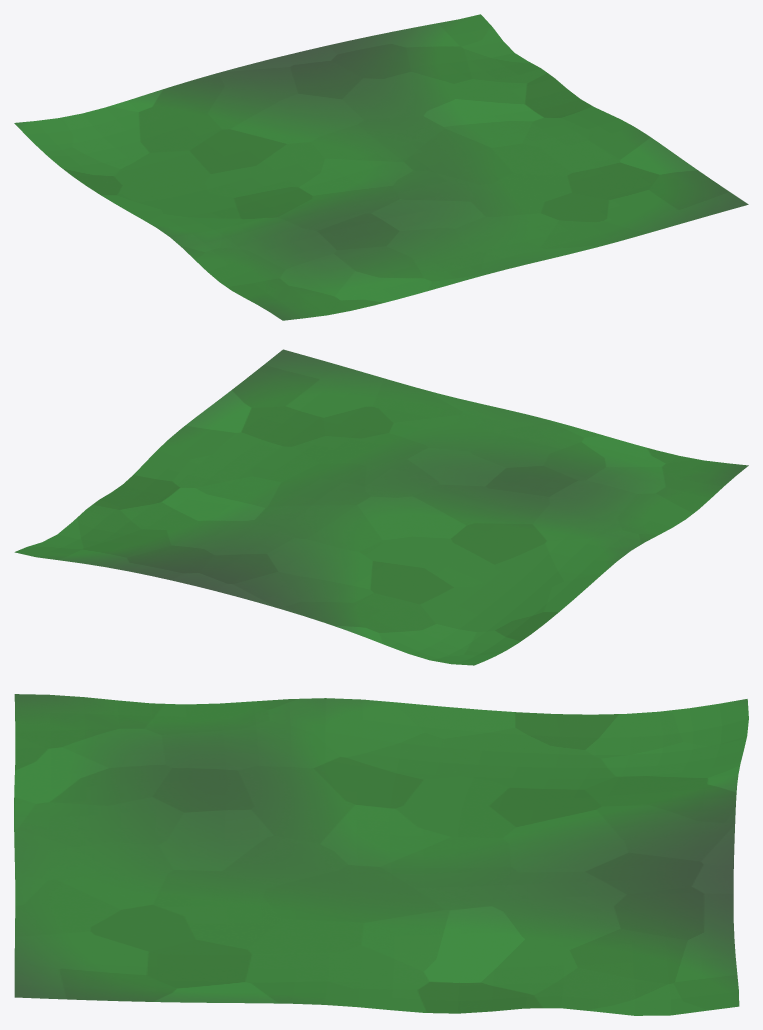
3 views of the same model, one above another, from view 1: azimuth 30°, elevation 25°; view 2: azimuth 150°, elevation 25°; view 3: azimuth 270°, elevation 25° (orthographic). The views are drawn at different scales.
Parts seen in each view (by area): view 1: Plane_3; view 2: Plane_3; view 3: Plane_3.
Boxes of the visible parts, x1,y1,x2,y2 form: Plane_3: [14, 14, 748, 320]; Plane_3: [14, 349, 748, 665]; Plane_3: [14, 694, 748, 1015].
Bounding box in the file's own units: 14.19 × 0.7501 × 14.35.
1 material, 1 textured.
